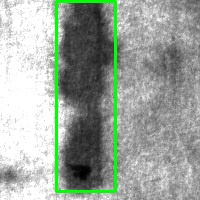patches: (56, 1, 115, 191)
